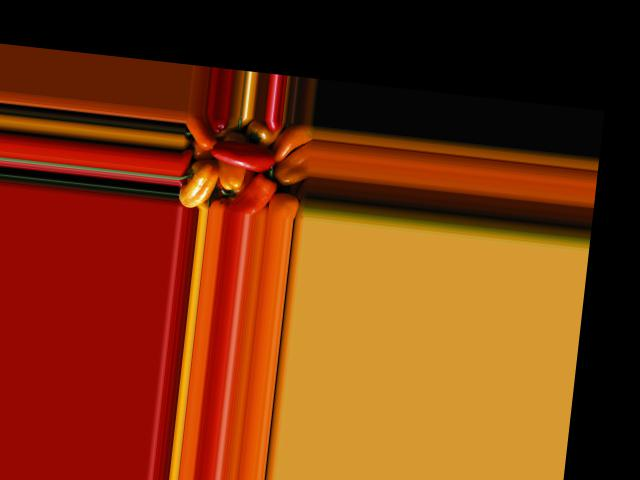bell_pepper: (177, 161, 222, 209)
